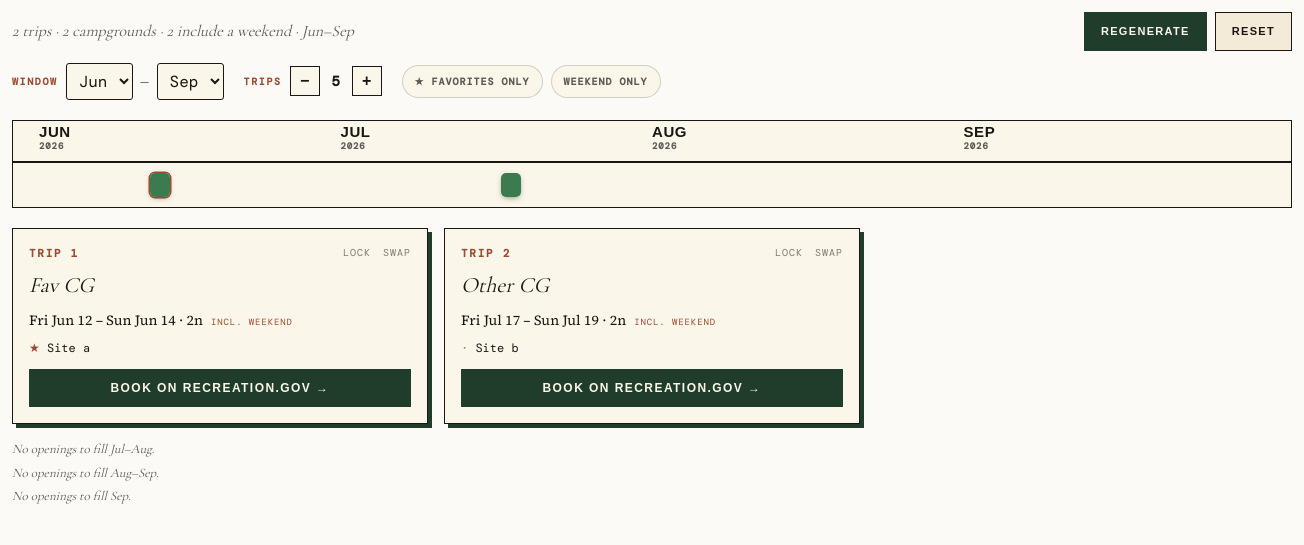
Test: SummerPlan › favorites-only toggle hides non-favorite picks
Expected: the text "Other CG" is shown, [461, 272, 549, 298]
Click the button "★ Favorites only" at (472, 81), box [402, 64, 543, 98]
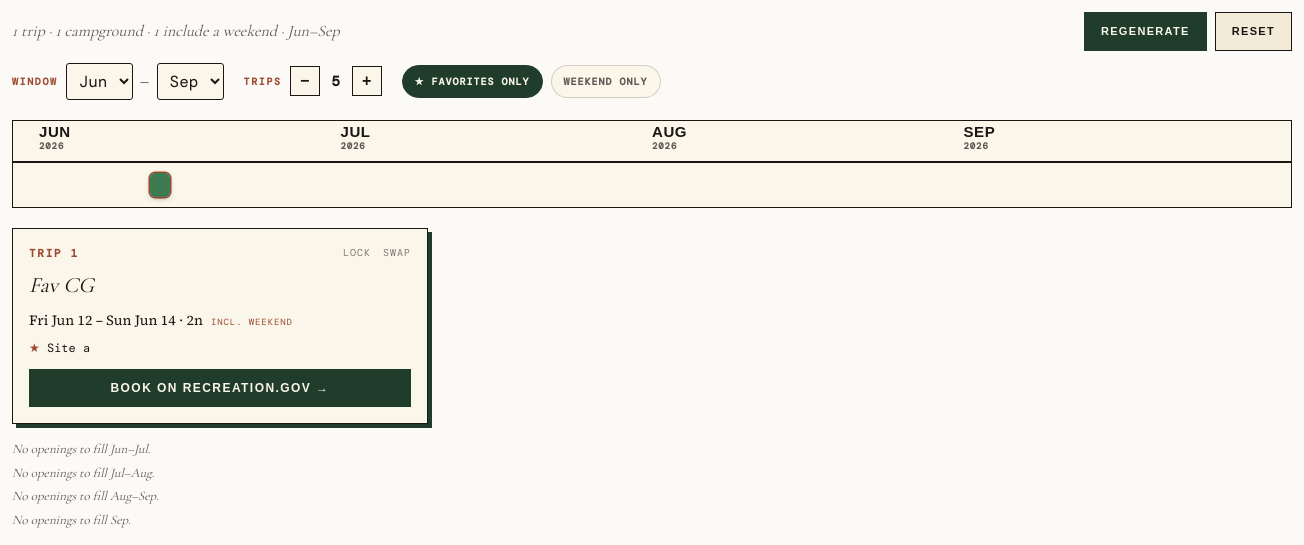
Expected: the text "Fav CG" is shown, [29, 272, 94, 298]
Result: the text "Other CG" is gone
